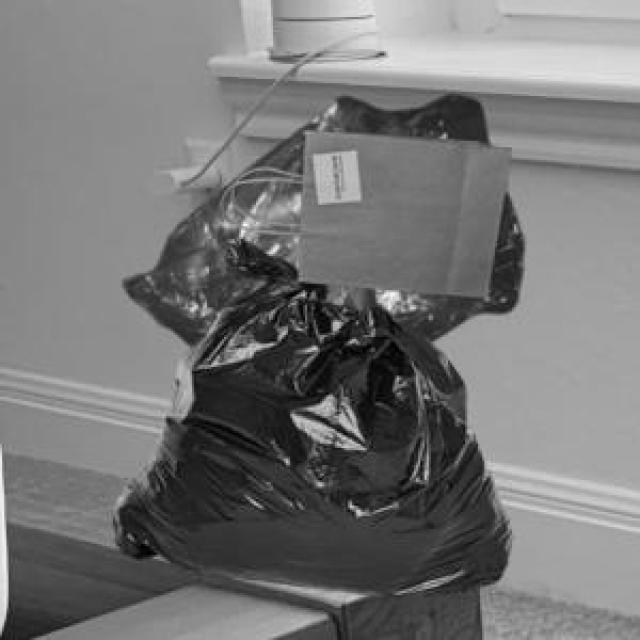miscellaneous trash: (109, 235, 508, 593)
paper: (250, 127, 508, 292)
